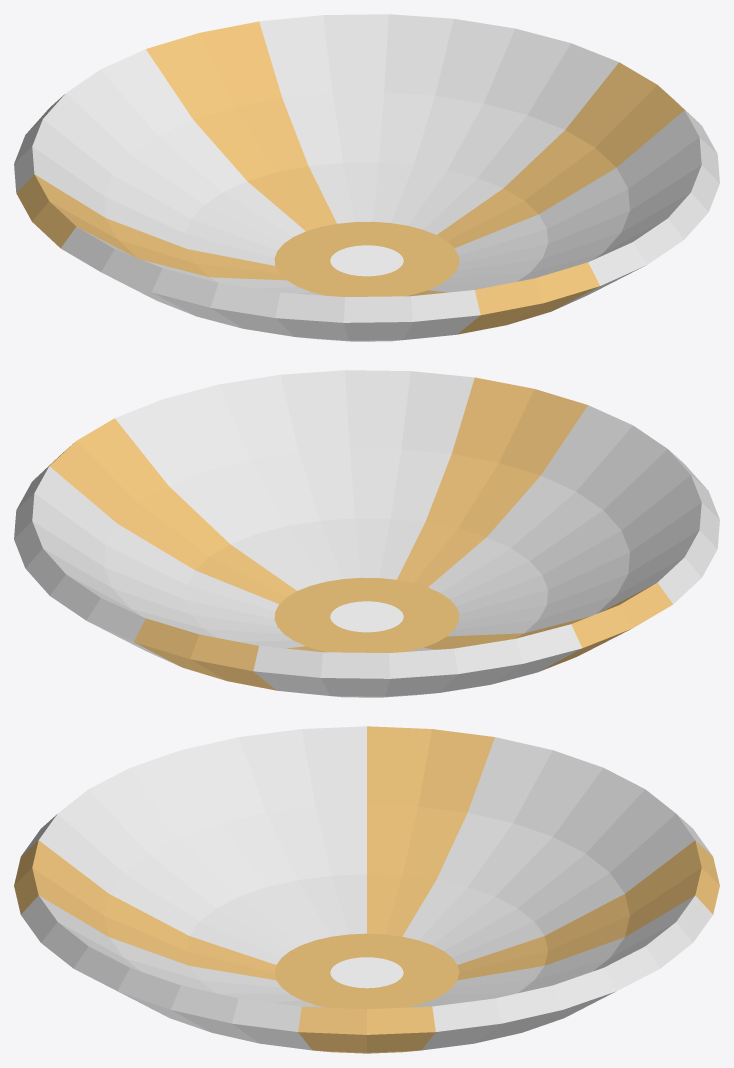
The model's file is MiniRoundHole_25x25x5.fbx.
3 views of the same model, one above another, from view 1: azimuth 30°, elevation 25°; view 2: azimuth 150°, elevation 25°; view 3: azimuth 270°, elevation 25° (orthographic).
Visible parts, largest first — view 1: MiniRoundHole_25x25x5; view 2: MiniRoundHole_25x25x5; view 3: MiniRoundHole_25x25x5.
Part boxes in pixels (x1,y1,x2,y2): MiniRoundHole_25x25x5: [14, 14, 719, 341]; MiniRoundHole_25x25x5: [14, 370, 719, 697]; MiniRoundHole_25x25x5: [14, 726, 719, 1053].
Bounding box in the file's own units: 25 × 5 × 25.
